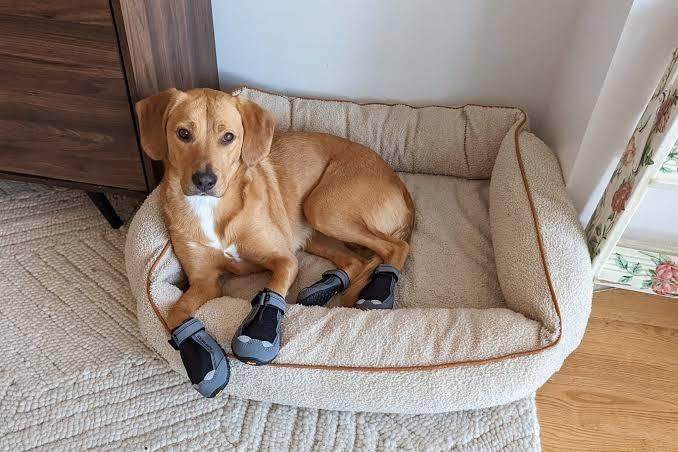adult_dog: (132, 89, 417, 399)
